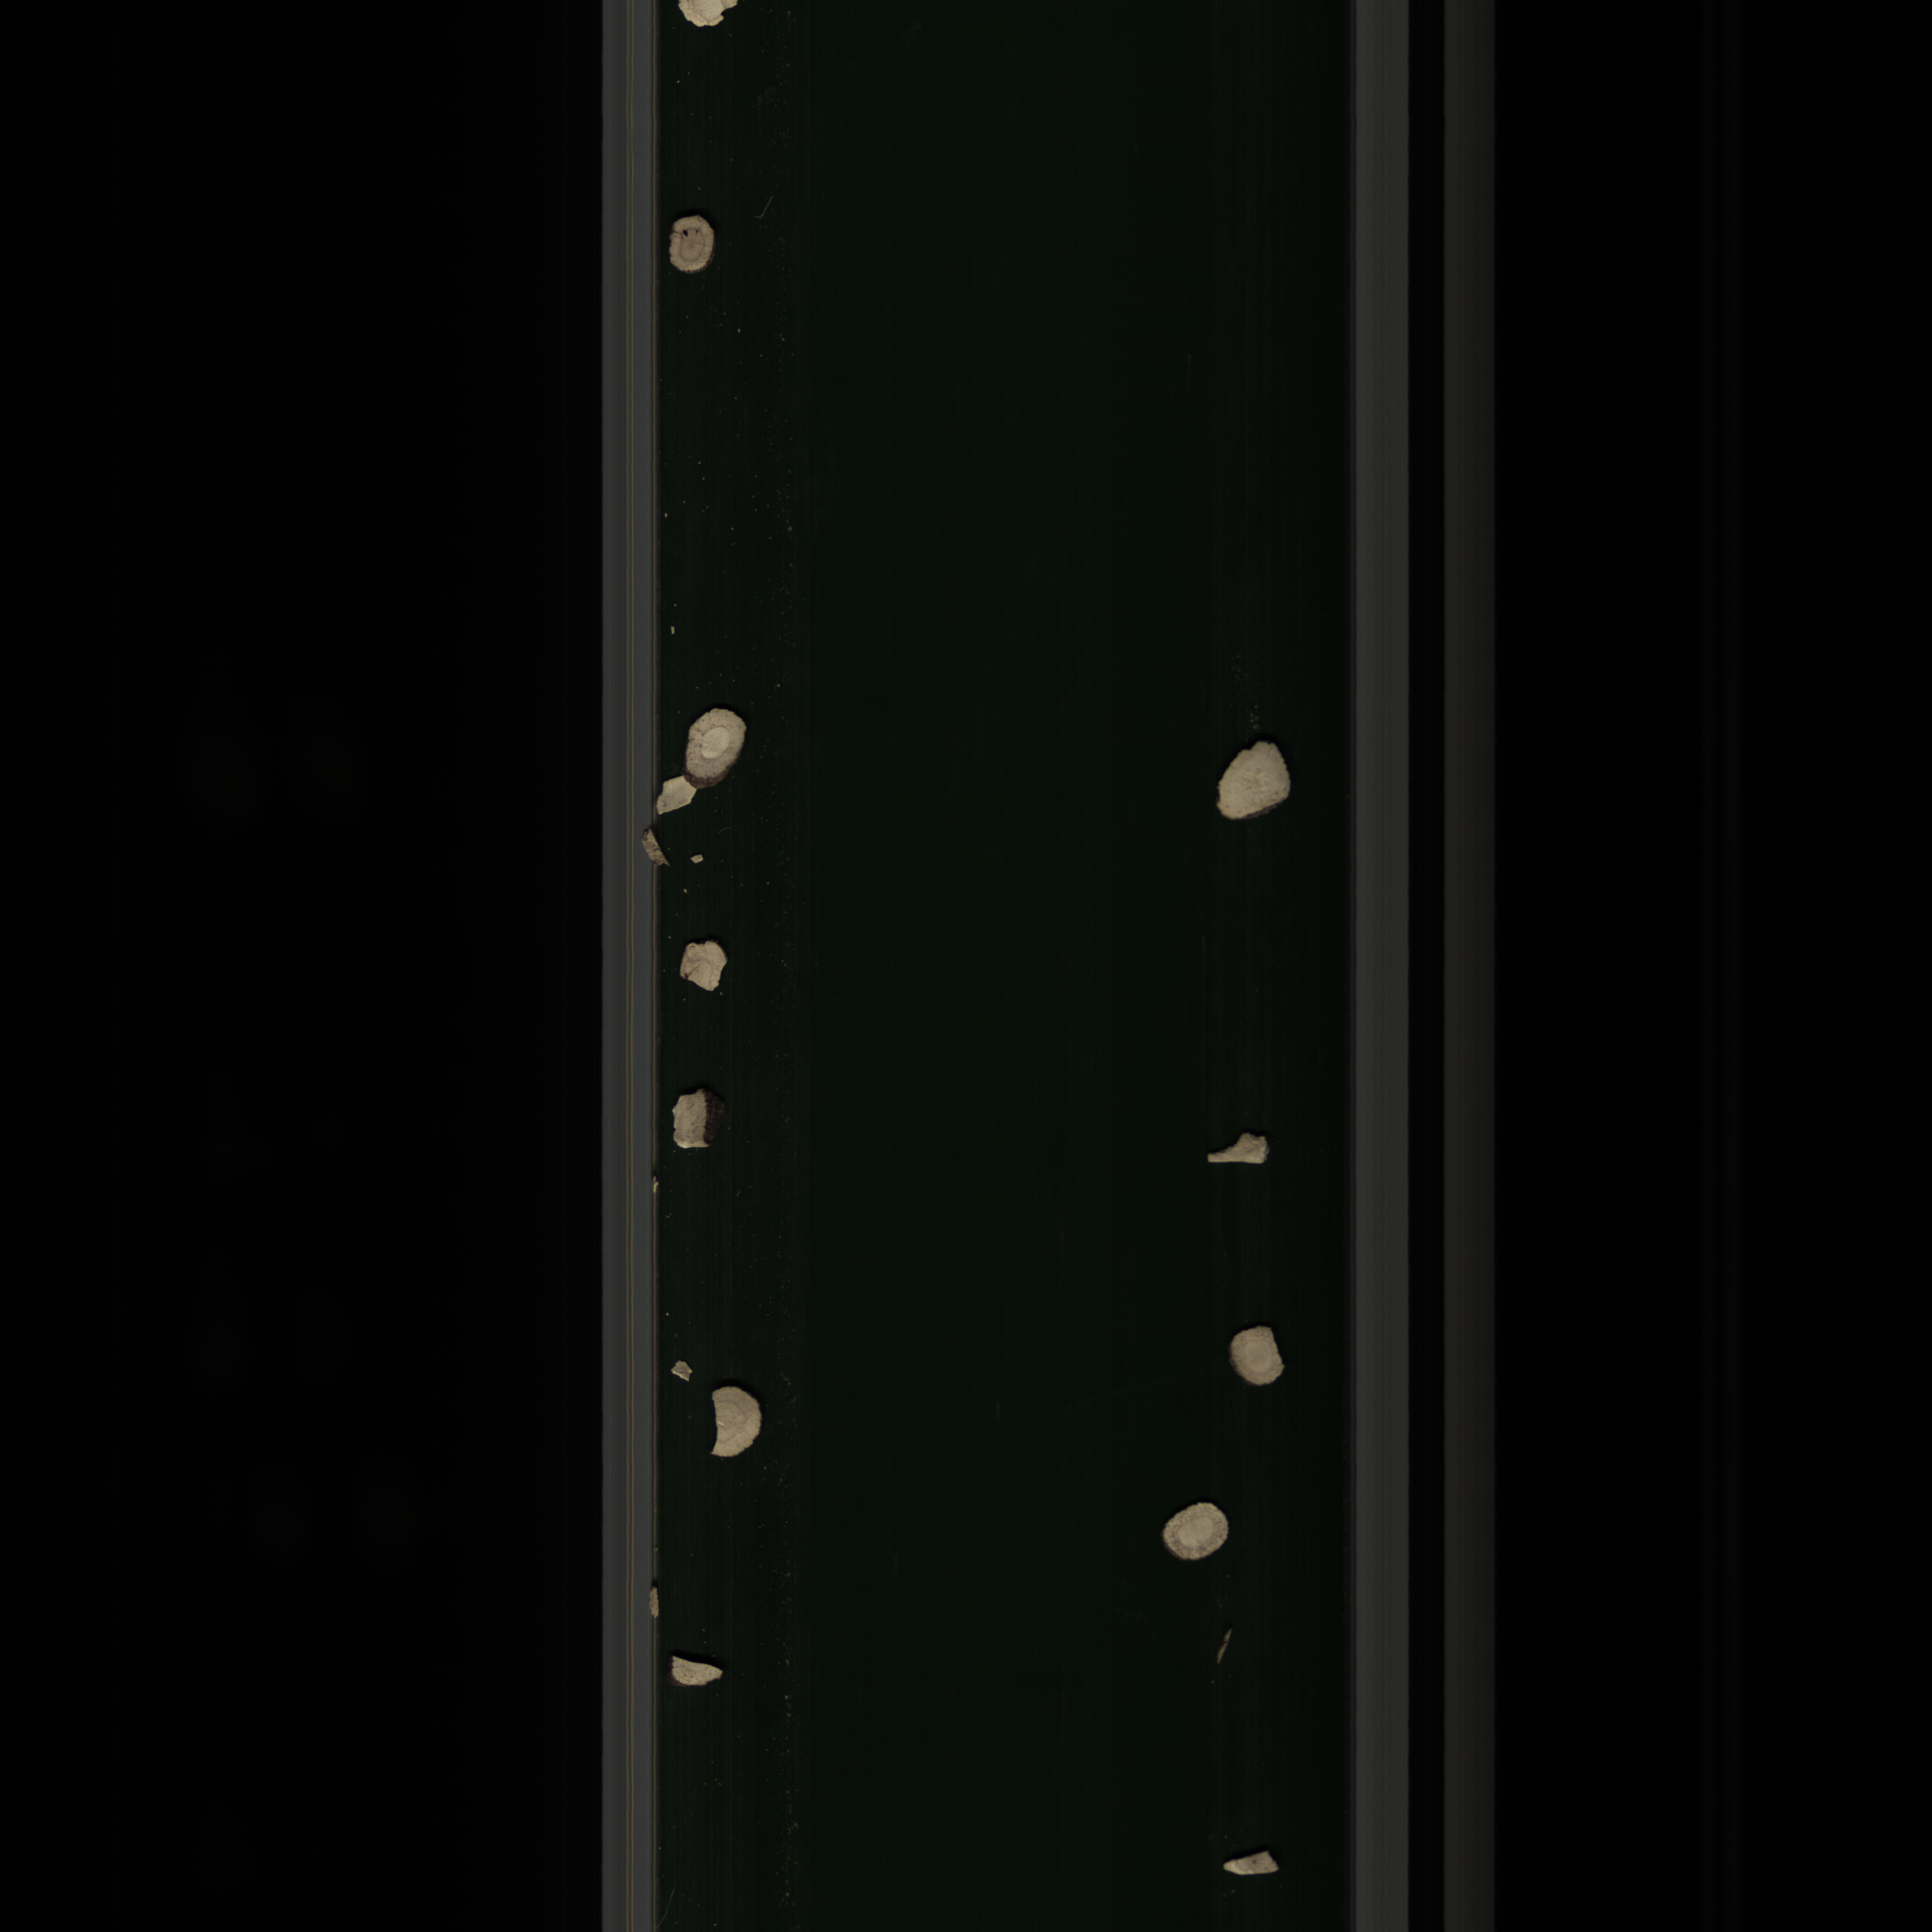debris: (708, 1380, 766, 1467), (663, 1086, 731, 1161), (1205, 1127, 1284, 1175), (674, 936, 732, 993), (1208, 1845, 1290, 1881), (665, 1651, 729, 1695)
distortion: (1208, 738, 1297, 826)
hole: (665, 209, 720, 283)
